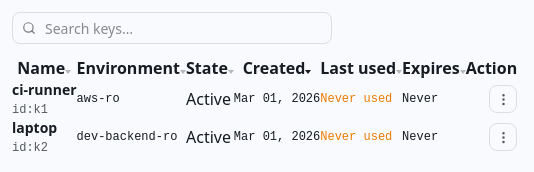
Test case: KeysTable — search › filters by name or environment and says when nothing matches
In the search field with placeholder "Search keys…": (172, 28) 12,12 -> 332,44, type "backend"
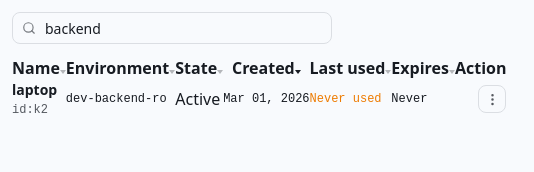
Expected: the text "laptop" is shown, 12,80 -> 57,99
Expected: the text "ci-runner" is gone
Replace the text in the search field with placeholder "Search keys…" with "nothing-like-this": (172, 28) 12,12 -> 332,44
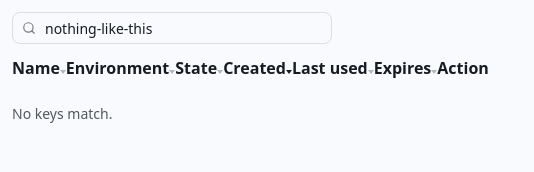
Expected: the text "No keys match." is shown, 12,104 -> 112,123
